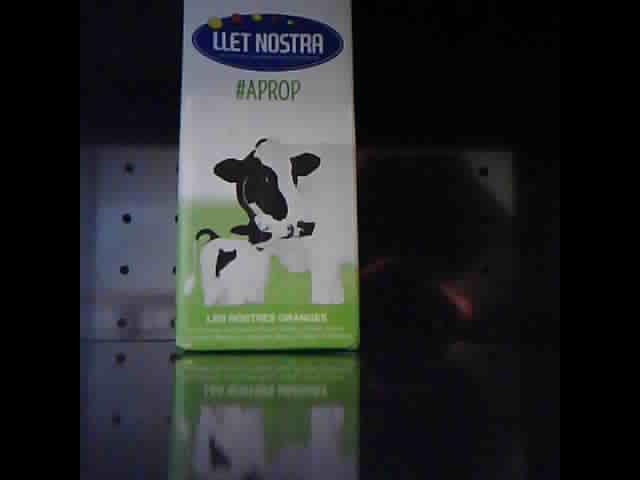leche: (175, 1, 360, 353)
